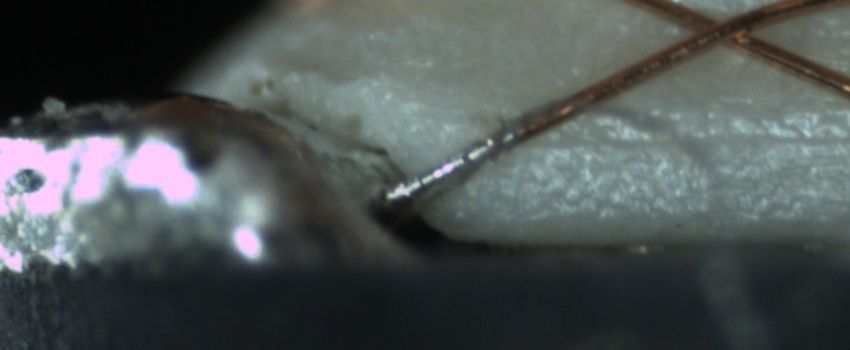CL: (677, 5, 768, 53)
DL: (462, 108, 850, 172)
TS: (386, 123, 521, 208)
